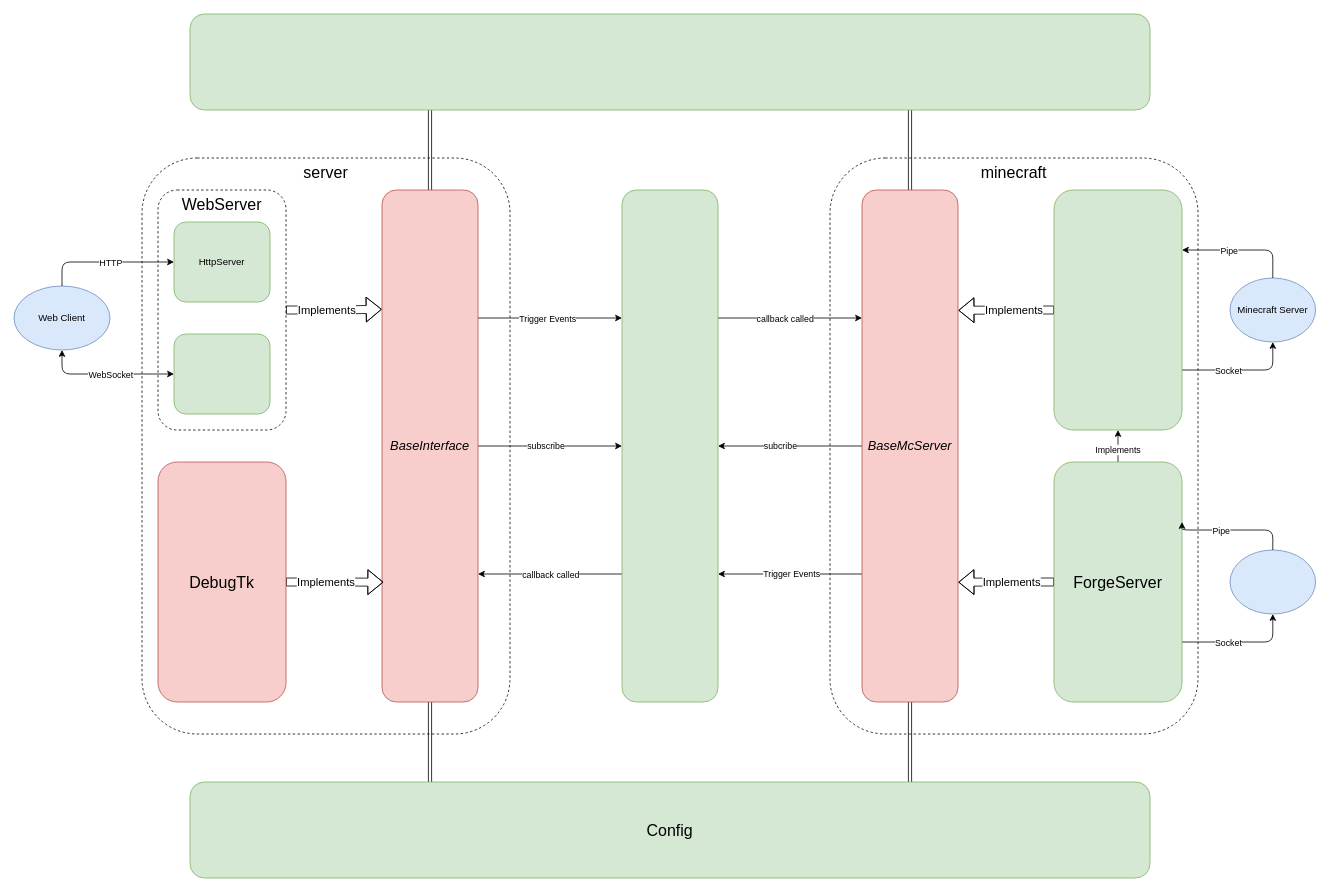
Some shapes in this 1330 by 892 pixel diagram are drawn without their labels. Here are the shapes that lost their labels. From the top down, the box of each, then its label:
(189, 13, 1150, 110): Database
(1053, 189, 1182, 430): MinecraftServer
(173, 333, 270, 414): SocketServer
(621, 189, 718, 702): Bus
(1229, 549, 1316, 614): Minecraft server with
